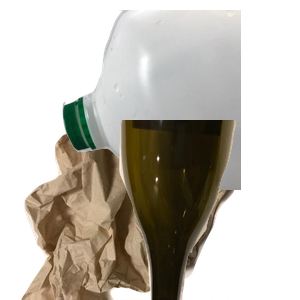glass: (117, 120, 300, 300)
metal: (105, 63, 300, 192)
plastic: (60, 10, 300, 190)
trash: (19, 120, 249, 300)
